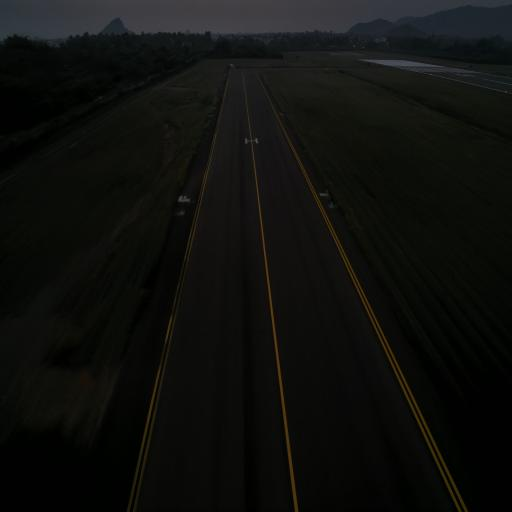on: (180, 206, 185, 215), (330, 199, 335, 208)
